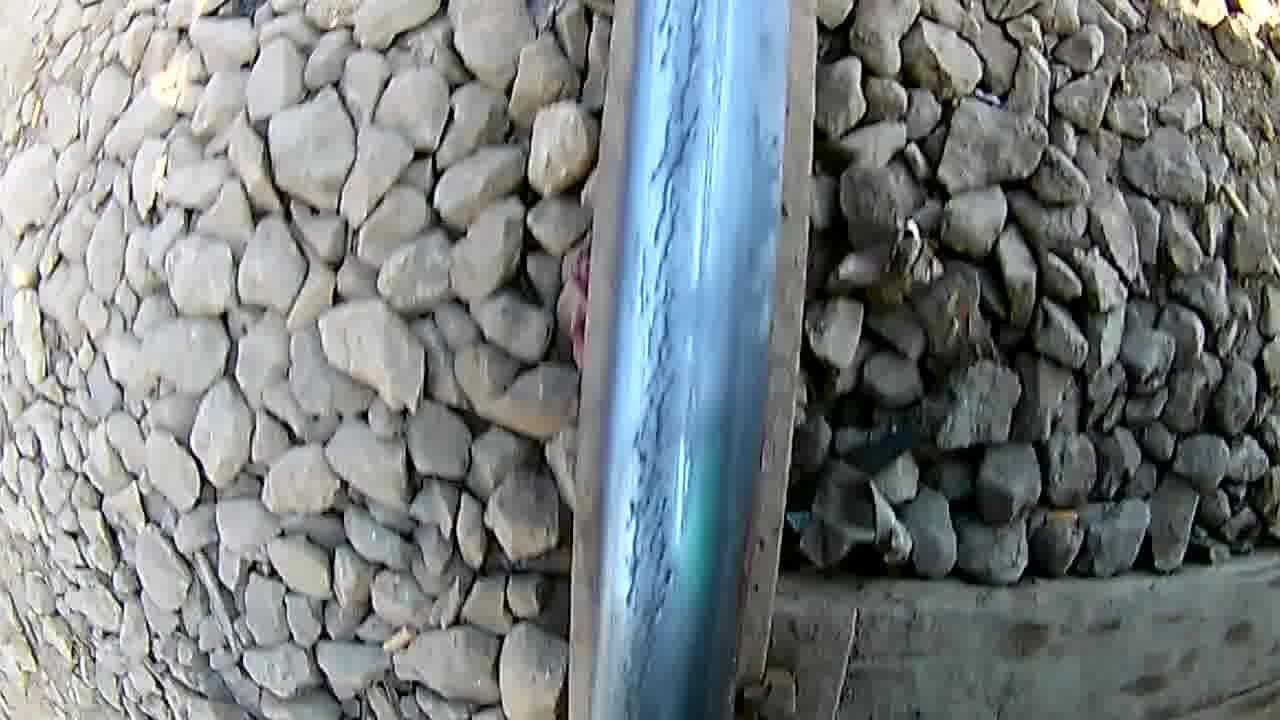crack: (617, 0, 713, 720)
